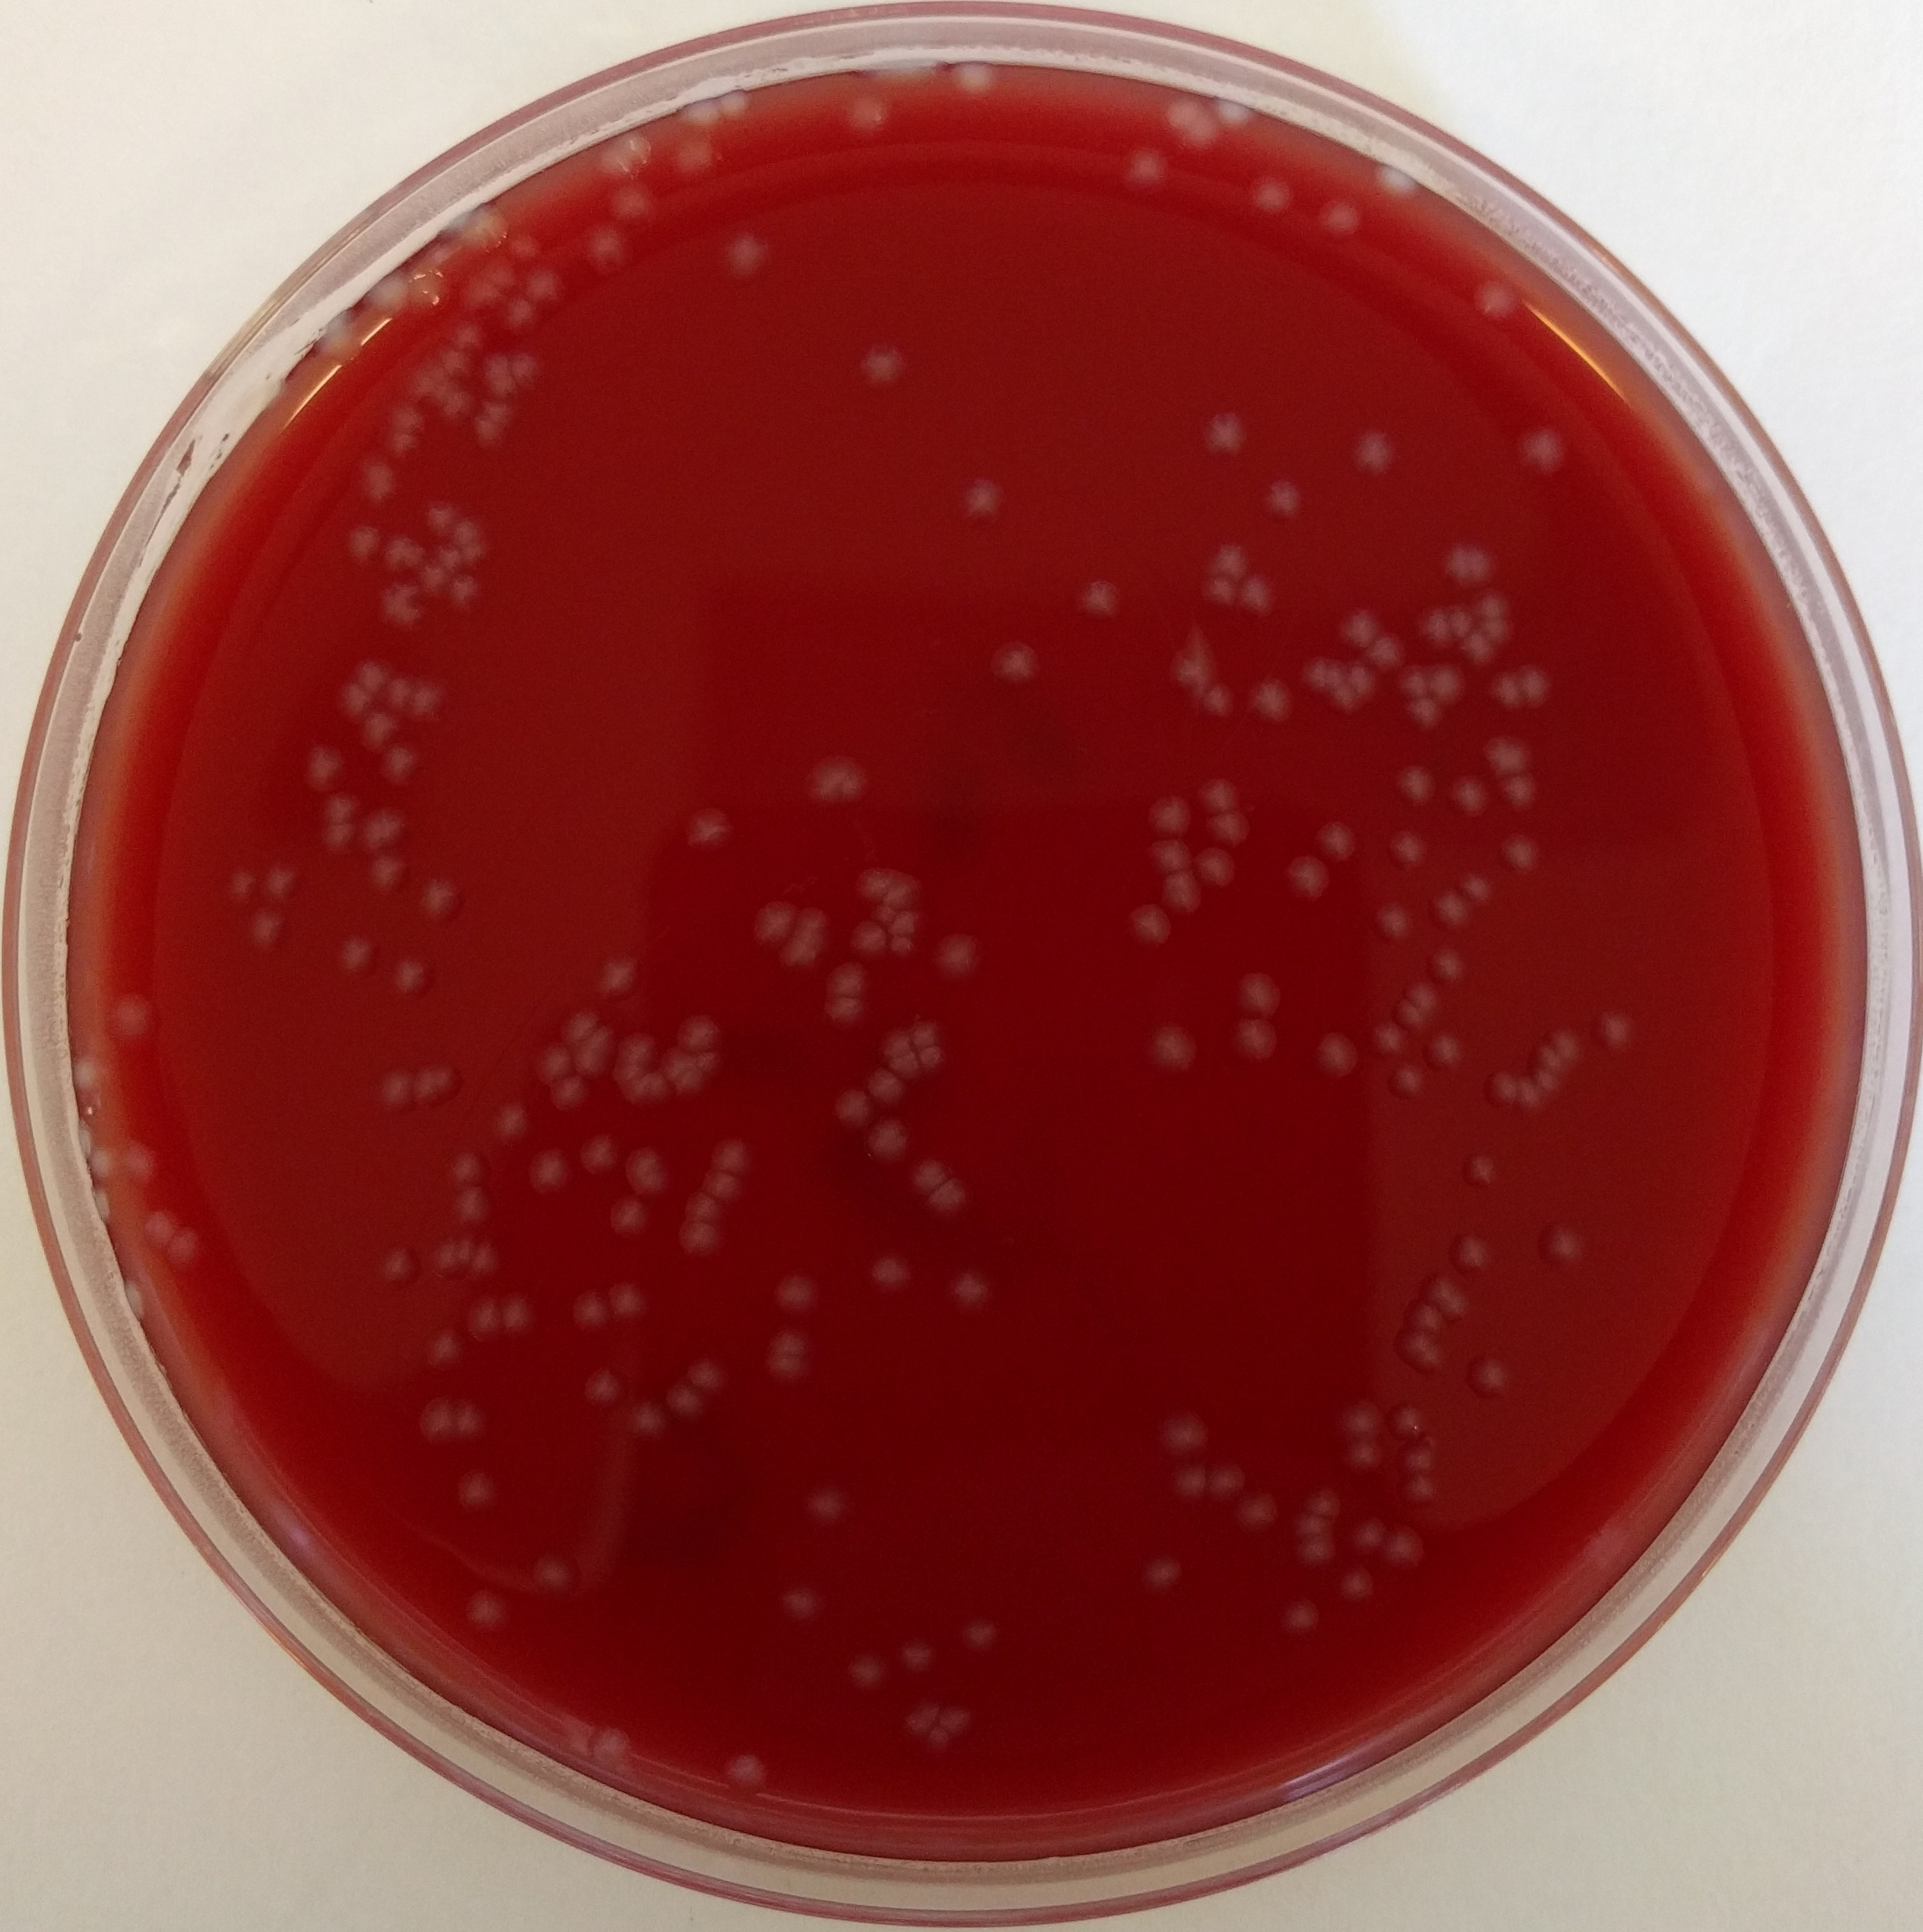sp18: (792, 745, 877, 812), (1234, 160, 1300, 234), (849, 329, 919, 396), (1192, 400, 1264, 465), (1104, 141, 1180, 203), (1138, 1011, 1205, 1080), (785, 1472, 859, 1534), (1116, 896, 1182, 965), (1166, 622, 1213, 715), (944, 470, 1016, 530), (438, 199, 512, 257), (512, 1138, 578, 1203), (666, 800, 733, 863), (1511, 417, 1580, 479), (1435, 528, 1506, 588), (1277, 847, 1340, 912), (585, 949, 648, 1014), (615, 1139, 680, 1203), (1227, 965, 1294, 1027), (1462, 1344, 1525, 1407), (1205, 77, 1264, 144), (977, 638, 1057, 687), (919, 932, 986, 990), (708, 231, 777, 287), (521, 1545, 593, 1597), (100, 990, 164, 1050), (1370, 150, 1430, 211), (785, 896, 836, 969), (1439, 773, 1502, 831), (456, 1582, 514, 1645), (940, 56, 1011, 107), (1254, 468, 1314, 528), (579, 222, 639, 282), (567, 1023, 627, 1083), (1532, 1219, 1594, 1277), (384, 949, 447, 1006), (1349, 424, 1404, 490), (1150, 1404, 1215, 1458), (836, 88, 903, 141), (534, 1066, 602, 1117), (1458, 269, 1525, 321), (1315, 188, 1375, 245), (1449, 1138, 1509, 1194), (370, 585, 430, 641), (349, 456, 409, 512), (569, 1122, 623, 1184), (569, 1363, 632, 1416), (447, 1467, 512, 1518), (600, 1187, 659, 1243), (755, 1347, 822, 1395), (1307, 812, 1363, 868), (718, 1744, 775, 1800), (1379, 822, 1437, 877), (581, 1719, 639, 1773), (1585, 1006, 1645, 1058), (113, 1129, 166, 1189), (1146, 866, 1208, 918), (764, 1266, 826, 1317), (431, 1143, 497, 1191), (747, 889, 794, 955), (1141, 789, 1197, 844), (602, 1272, 659, 1326), (1234, 567, 1287, 625), (1388, 761, 1446, 814), (484, 1095, 542, 1148), (602, 180, 662, 231), (1168, 1446, 1213, 1511), (449, 1386, 504, 1441), (301, 741, 356, 796), (1421, 882, 1477, 935), (567, 1284, 620, 1340), (1310, 1027, 1361, 1085), (1168, 106, 1227, 155), (944, 1266, 1004, 1316), (859, 1247, 919, 1296), (416, 498, 475, 548), (361, 271, 410, 331), (859, 53, 935, 92), (662, 134, 726, 180), (1477, 733, 1541, 778), (1361, 893, 1414, 948), (773, 1578, 828, 1631), (1249, 671, 1296, 731), (417, 872, 470, 925), (449, 1182, 504, 1233), (329, 928, 384, 979), (1238, 1479, 1287, 1536), (1493, 828, 1544, 881), (1187, 838, 1240, 889), (657, 1375, 710, 1427), (1338, 1395, 1393, 1444), (1143, 826, 1190, 882), (1134, 1552, 1192, 1597), (372, 1058, 417, 1117), (373, 740, 424, 791), (1396, 685, 1446, 738), (1377, 1525, 1430, 1574), (461, 1293, 509, 1347), (1414, 1027, 1470, 1073), (840, 1654, 889, 1705), (359, 849, 410, 898), (375, 532, 428, 579), (1155, 88, 1210, 134), (1201, 803, 1256, 849), (671, 1217, 733, 1257), (1335, 1555, 1379, 1611), (416, 1326, 472, 1370), (361, 803, 417, 847), (136, 1199, 178, 1257), (1337, 609, 1386, 659), (1425, 940, 1474, 990), (527, 1037, 576, 1087), (1275, 1590, 1323, 1641), (398, 685, 449, 733), (921, 1173, 976, 1217), (465, 1233, 509, 1287), (167, 1217, 208, 1275), (1076, 574, 1124, 623), (1382, 1397, 1430, 1446), (1398, 1471, 1448, 1518), (509, 347, 558, 395), (1358, 636, 1409, 682), (1231, 1013, 1277, 1064), (865, 1064, 916, 1110), (826, 1088, 877, 1134), (551, 1007, 604, 1051), (315, 789, 368, 833), (1465, 608, 1525, 646), (116, 1270, 153, 1331), (1199, 676, 1245, 726), (1386, 1058, 1435, 1104), (903, 1150, 949, 1199), (254, 858, 299, 907), (243, 907, 289, 956), (1393, 1435, 1444, 1479), (412, 1391, 456, 1442), (611, 1029, 662, 1073), (380, 1238, 424, 1289), (821, 963, 873, 1006), (1289, 1530, 1342, 1573), (657, 1046, 710, 1088), (872, 1111, 912, 1166), (1493, 768, 1541, 814), (1368, 1016, 1414, 1064), (1525, 1043, 1571, 1090), (1477, 1069, 1521, 1118), (1451, 1229, 1495, 1279), (958, 1610, 1007, 1654), (403, 269, 453, 313), (329, 523, 380, 565), (454, 262, 497, 313), (502, 1284, 539, 1342), (1205, 1453, 1245, 1506), (696, 1164, 748, 1205), (1335, 1441, 1389, 1479), (620, 1395, 666, 1441), (1419, 664, 1469, 706), (1381, 1323, 1430, 1365), (676, 1009, 726, 1051), (329, 678, 379, 720), (1520, 666, 1558, 719), (1192, 775, 1245, 814), (1470, 585, 1525, 622), (310, 324, 365, 361), (1324, 683, 1370, 727), (1391, 660, 1437, 704), (1402, 1296, 1448, 1340), (1544, 1021, 1592, 1064), (1485, 669, 1525, 719), (1388, 990, 1428, 1039), (891, 1641, 940, 1682), (1511, 1067, 1544, 1125), (1342, 660, 1384, 706), (1412, 604, 1453, 652), (877, 879, 926, 918), (627, 1071, 676, 1110), (708, 1136, 759, 1173), (1402, 976, 1446, 1018), (683, 1196, 736, 1231), (440, 572, 483, 616), (521, 266, 565, 308), (715, 83, 755, 129), (1197, 567, 1238, 613), (1345, 1515, 1391, 1555), (410, 553, 451, 599), (428, 1064, 475, 1102), (821, 993, 870, 1030), (1203, 541, 1254, 576), (676, 102, 720, 143), (1451, 630, 1497, 669), (72, 1051, 111, 1097), (761, 1326, 814, 1360), (409, 1057, 442, 1110), (449, 321, 497, 358), (933, 1701, 977, 1740), (79, 1143, 123, 1182), (479, 255, 523, 294), (900, 1013, 946, 1050), (845, 921, 893, 956), (456, 532, 491, 579), (497, 231, 544, 266), (917, 1036, 951, 1085), (438, 387, 488, 421), (618, 130, 659, 171), (319, 821, 361, 859), (428, 535, 470, 574), (595, 148, 641, 183), (1442, 595, 1477, 641), (1456, 866, 1495, 907), (673, 1067, 713, 1106), (215, 865, 254, 905), (350, 659, 391, 697), (440, 342, 479, 382), (1303, 1481, 1338, 1525), (384, 396, 419, 440), (495, 296, 539, 331), (1284, 1513, 1338, 1541), (683, 1361, 729, 1395), (879, 911, 930, 940), (852, 866, 903, 896), (886, 1048, 926, 1085), (400, 365, 446, 396), (359, 712, 398, 748), (377, 673, 414, 712), (877, 1025, 917, 1060), (86, 1184, 122, 1224), (1532, 1067, 1574, 1101), (451, 514, 484, 557), (1418, 1270, 1455, 1307), (609, 1055, 648, 1090), (900, 1700, 932, 1742), (479, 375, 528, 402), (1300, 653, 1328, 697), (472, 414, 505, 451), (67, 1110, 97, 1150), (453, 1233, 479, 1279), (428, 1231, 456, 1273), (483, 349, 516, 380), (1321, 655, 1349, 692), (692, 1046, 731, 1073), (382, 430, 423, 454), (882, 933, 919, 960), (1414, 1347, 1446, 1377), (925, 1721, 956, 1751), (1444, 1293, 1472, 1321), (866, 905, 900, 926), (484, 400, 516, 421)
